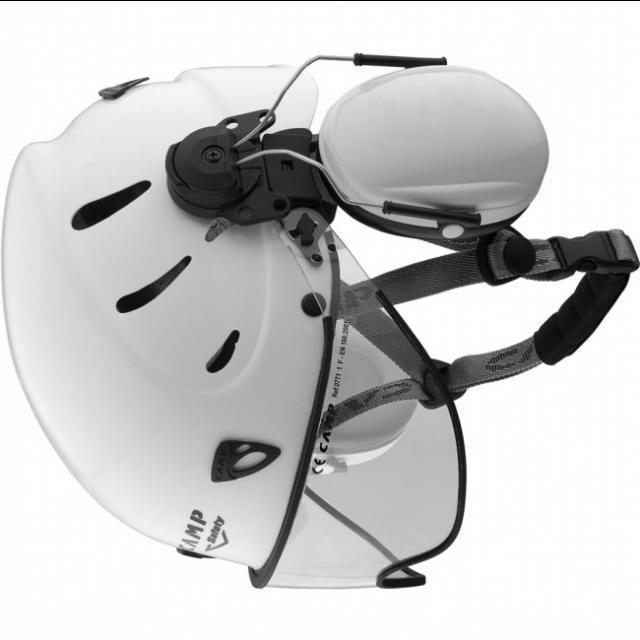safety_helmet: (2, 50, 640, 589)
